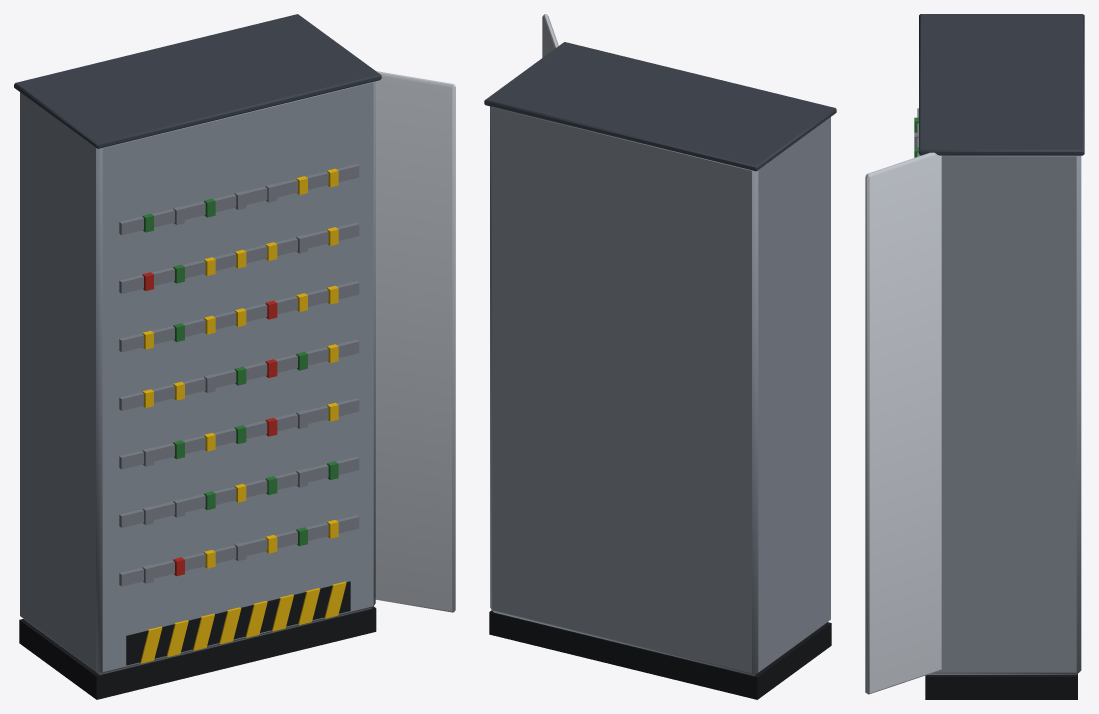
File: junction_marshalling_cabinet.glb
The picture shows the model from 3 angles, left to right: view 1: azimuth 30°, elevation 25°; view 2: azimuth 150°, elevation 25°; view 3: azimuth 270°, elevation 25°; orthographic projection. The views are drawn at different scales.
Parts seen in each view (by area): view 1: junction_marshalling_cabinet; view 2: junction_marshalling_cabinet; view 3: junction_marshalling_cabinet.
Part boxes in pixels (bbox=[...]): junction_marshalling_cabinet: bbox=[14, 14, 455, 699]; junction_marshalling_cabinet: bbox=[484, 14, 836, 699]; junction_marshalling_cabinet: bbox=[865, 14, 1084, 699].
Size of the model in its own units: 1.19 by 1.91 by 0.6883.
